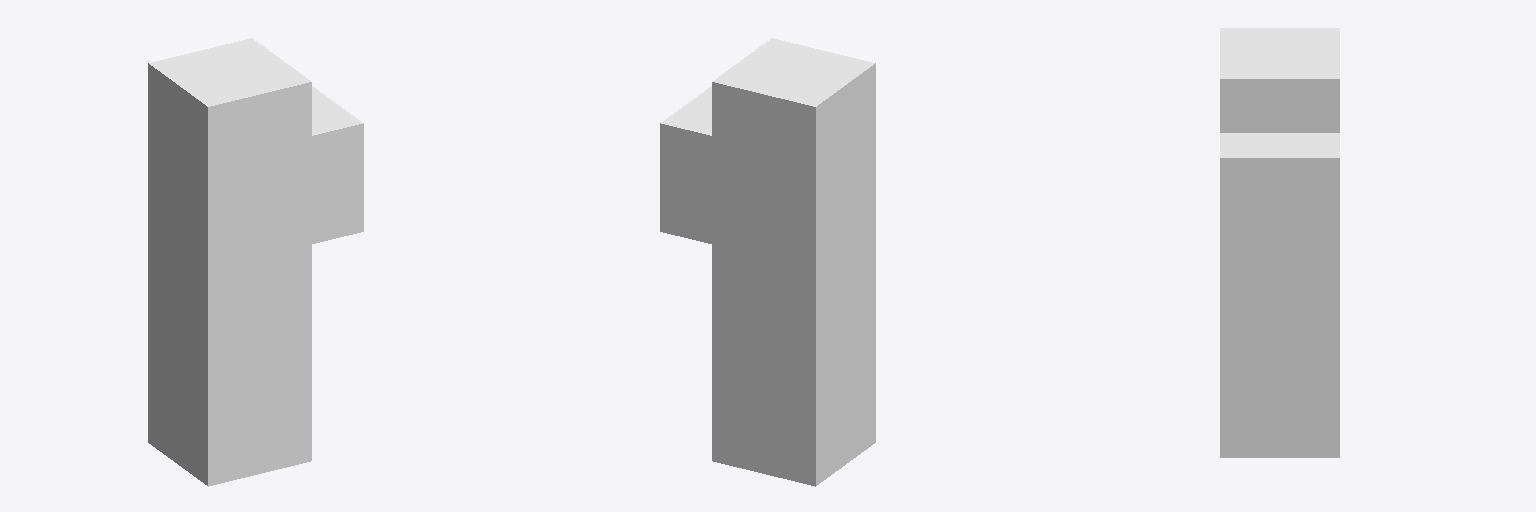
File: Person4.obj
3 views of the same model, side by side, from view 1: azimuth 30°, elevation 25°; view 2: azimuth 150°, elevation 25°; view 3: azimuth 270°, elevation 25° (orthographic).
Size of the model in its own units: 3 by 7 by 2.